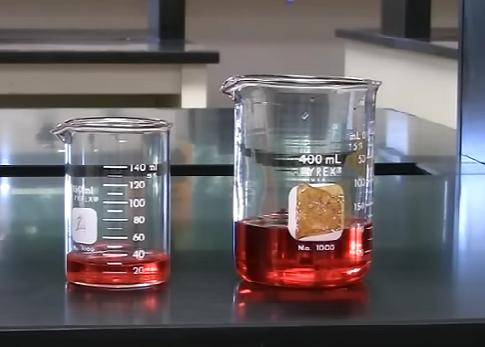Beaker: (220, 61, 383, 298), (49, 108, 175, 288)
